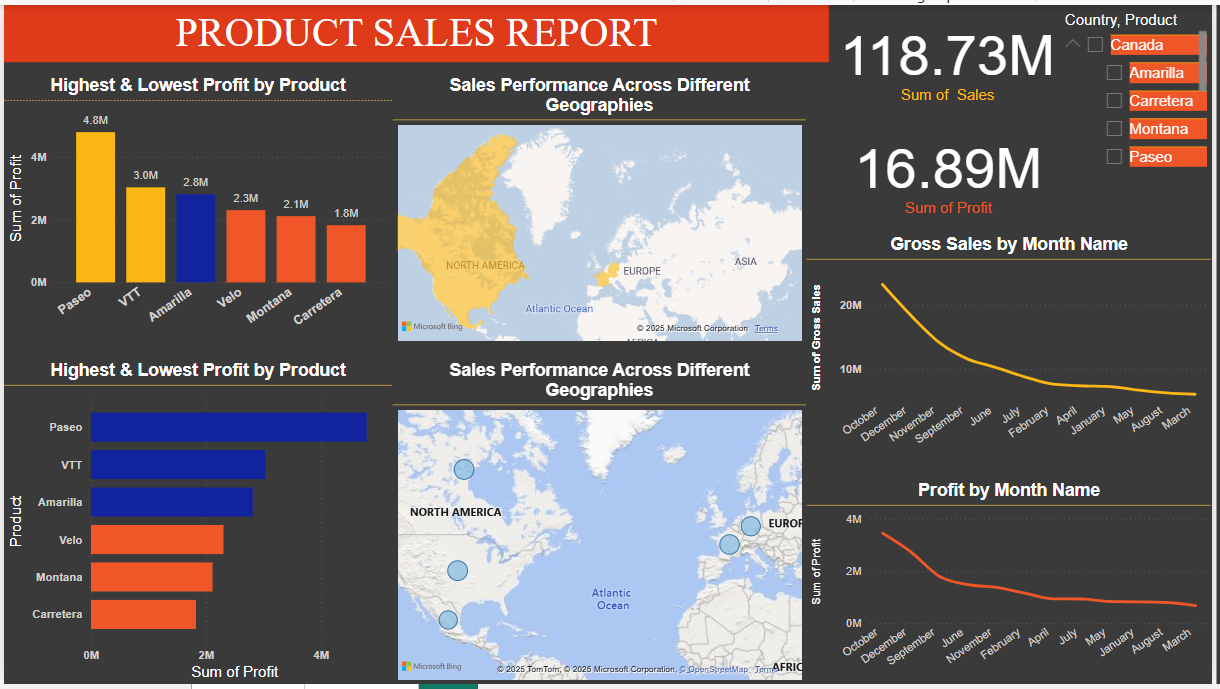

Layout of this report page (visuals, bound fields, positions):
{"tool":"powerbi","page":{"name":"Page 1","canvas":[1280,720],"ordinal":0},"visuals":[{"type":"textbox","box":[0,0,874.8,60.4],"z":0},{"type":"clusteredColumnChart","title":"Highest & Lowest Profit by Product","fields":{"Category":["financials.Product"],"Y":["Sum(financials.Profit)"]},"box":[0,74.5,411.3,285],"z":1000},{"type":"clusteredBarChart","title":"Highest & Lowest Profit by Product","fields":{"Category":["financials.Product"],"Y":["Sum(financials.Profit)"]},"box":[0,377.3,411.3,343.3],"z":2000},{"type":"filledMap","title":"Sales Performance Across Different Geographies","fields":{"Category":["financials.Country"]},"box":[411.3,74.5,438.8,285],"z":3000},{"type":"map","title":"Sales Performance Across Different Geographies","fields":{"Category":["financials.Country"],"Size":["Sum(financials. Sales)"]},"box":[411.3,377.3,438.8,343.3],"z":4000},{"type":"lineChart","title":"Gross Sales by Month Name","fields":{"Category":["financials.Month Name"],"Y":["Sum(financials.Gross Sales)"]},"box":[851.2,242.7,429.5,242.7],"z":5000},{"type":"lineChart","title":" Profit by Month Name","fields":{"Category":["financials.Month Name"],"Y":["Sum(financials.Profit)"]},"box":[851.2,504.6,429.5,215.7],"z":6000},{"type":"card","fields":{"Values":["Sum(financials. Sales)"]},"box":[874.8,1.6,251.3,111.3],"z":6001},{"type":"card","fields":{"Values":["Sum(financials.Profit)"]},"box":[890.7,112.9,221.1,128.8],"z":6002},{"type":"slicer","fields":{"Values":["financials.Country","financials.Product"]},"box":[1111.8,1.6,168.6,176.6],"z":6003}]}

Visuals, with their boxes in screenshot pixels (x1, y1, x2, y2), scaled from the page's 1280x720 canvas onto the 1220x689 screenshot:
textbox: 0 0 834 58
"Highest & Lowest Profit by Product" clusteredColumnChart: 0 71 392 344
"Highest & Lowest Profit by Product" clusteredBarChart: 0 361 392 688
"Sales Performance Across Different Geographies" filledMap: 392 71 810 344
"Sales Performance Across Different Geographies" map: 392 361 810 688
"Gross Sales by Month Name" lineChart: 811 232 1219 465
" Profit by Month Name" lineChart: 811 483 1219 688
card - Sum(financials. Sales): 834 2 1073 108
card - Sum(financials.Profit): 849 108 1060 231
slicer - financials.Country x financials.Product: 1060 2 1219 171
